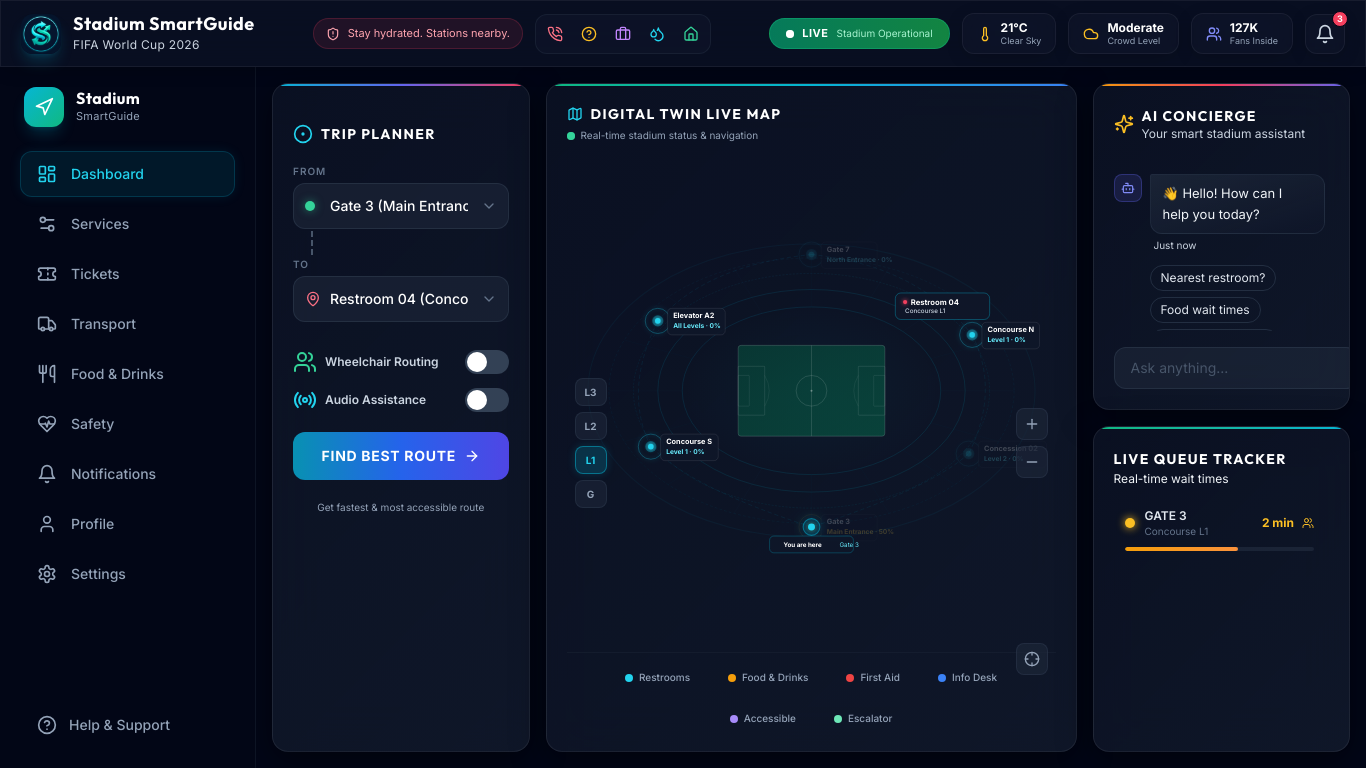
Test: FanDashboard Page Component Tests › Lost & Found button click displays custom alert modal
The width and height of the screenshot is (1366, 768).
Click the button titled "Lost & Found": (623, 34) [608,18,638,48]
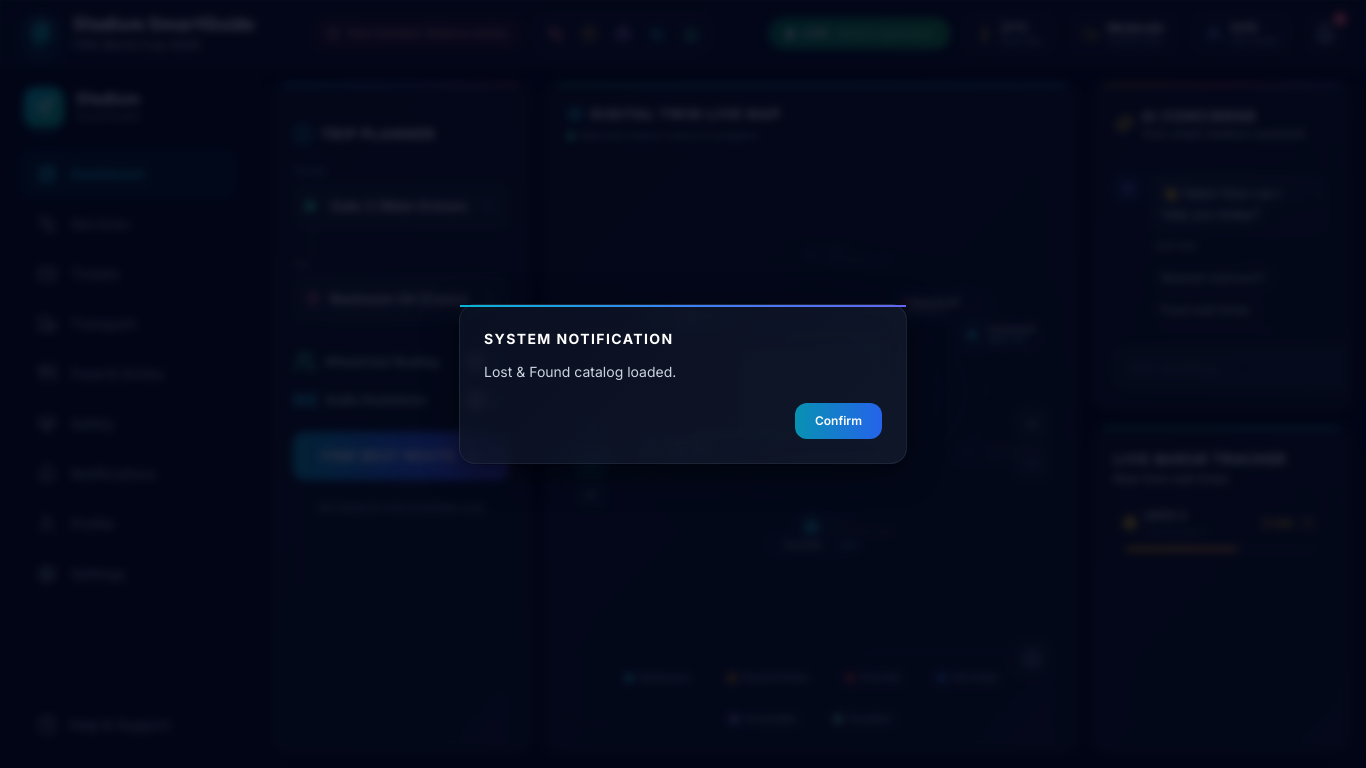
Result: the text "Lost & Found catalog loaded." is shown at [484,363,676,380]
